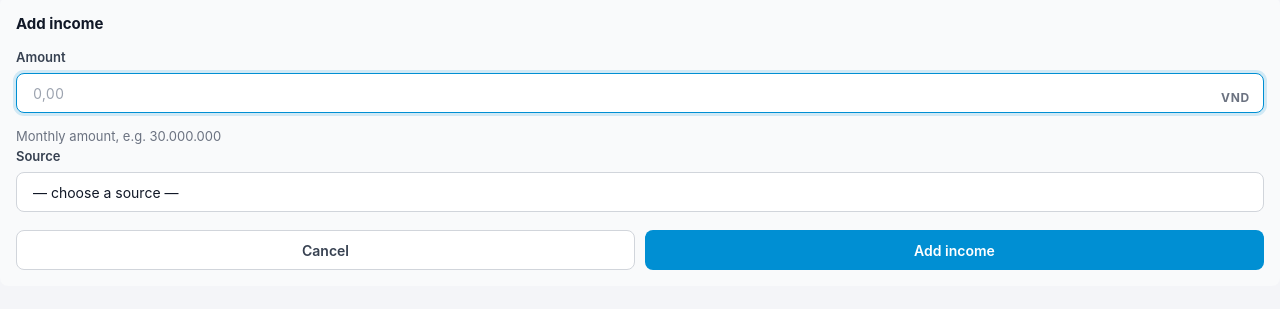
Test: IncomeForm › flags the source control itself when no source was chosen
Type "30000000" into the field with id "income-amount" at {"x": 640, "y": 93}, box [16,73,1264,113]
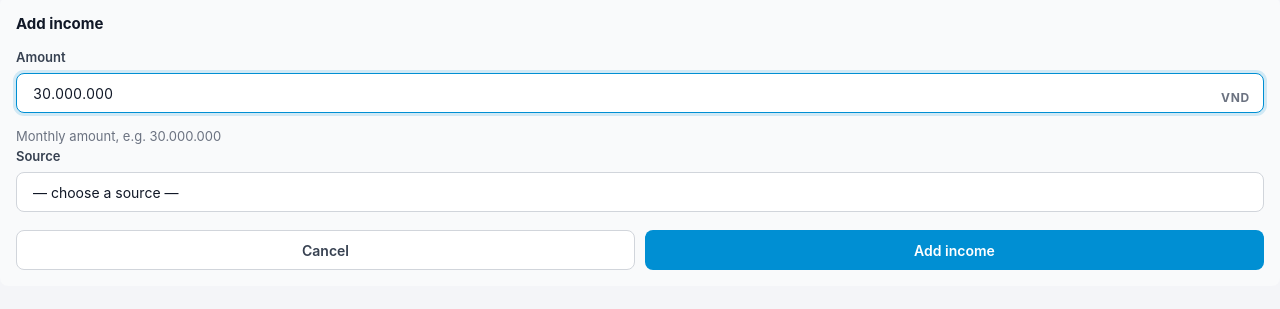
Click the button "Add income" at {"x": 954, "y": 250}, box [645,230,1264,270]
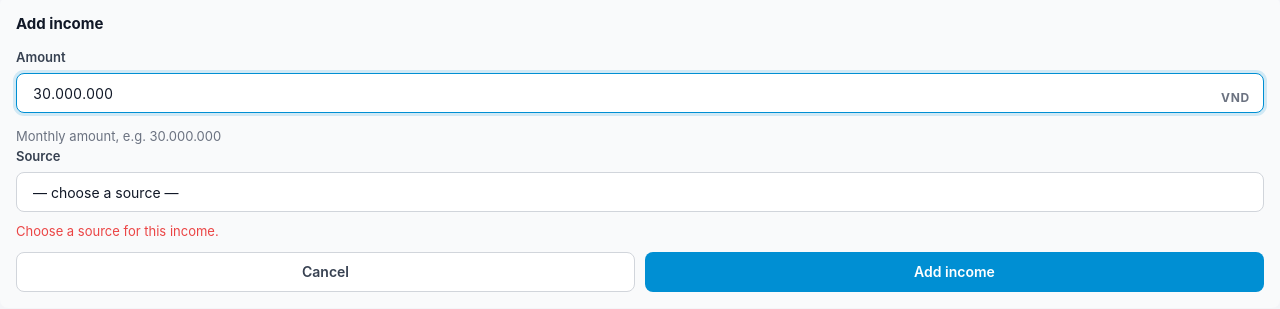
Check: the message with id "income-source-error" reads "Choose a source for this income.", box [16,223,219,239]
